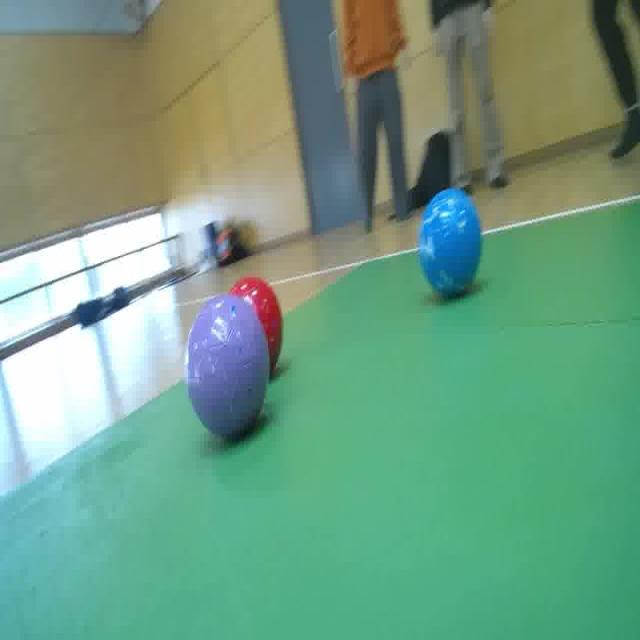blue_ball: (418, 187, 483, 298)
purple_ball: (185, 292, 270, 448)
red_ball: (216, 271, 290, 391)
